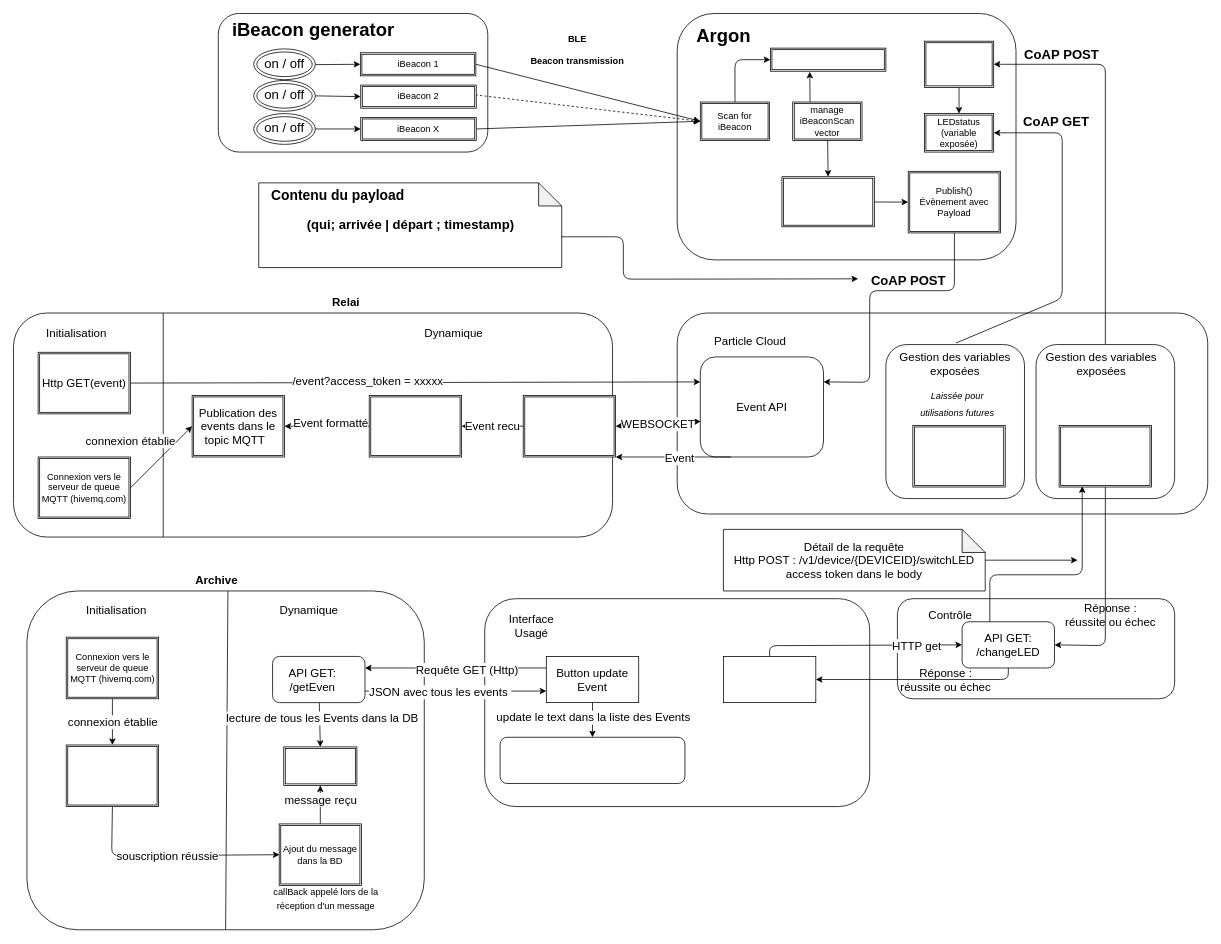
This 1221x944 diagram has some shape labels left out. The shapes that lost their labels are listed below. From the top down, each one's centre as x and y in pixels, then its label:
[828,59]: vector<iBeaconScan>
[959,63]: SwitchLED() (Fonction exposée)
[827,201]: CallBack (si arrivée ou sortie d'un device)
[415,426]: Triage et formattage de l'event recu
[569,426]: Lien WEBSOCKET avec le cloud Particle
[958,456]: variables exposition API
[1105,456]: Function exposition API
[769,679]: Boutton LED
[112,775]: souscription au topic
[320,765]: Db.txt
[592,760]: List des Events
